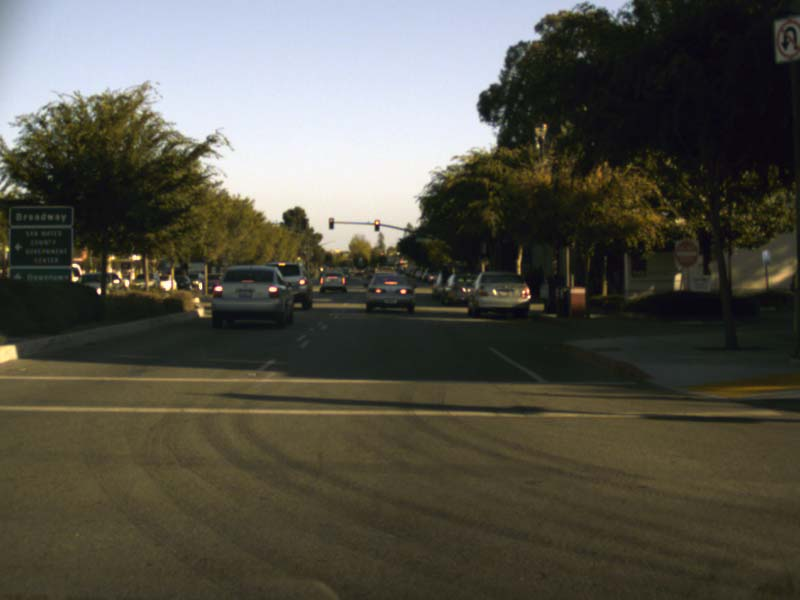Red: (374, 220, 379, 231), (328, 217, 333, 228)
